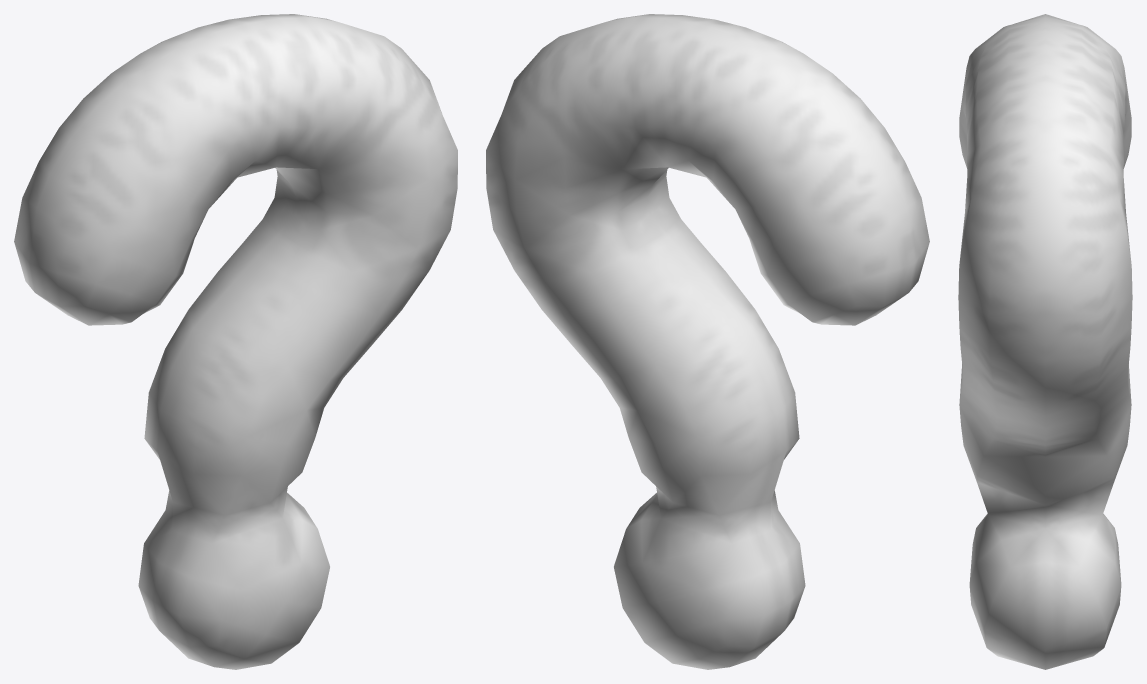
The model's file is LettersBalloon01_S2.FBX.
3 views of the same model, side by side, from view 1: azimuth 30°, elevation 25°; view 2: azimuth 150°, elevation 25°; view 3: azimuth 270°, elevation 25° (orthographic).
Visible parts, largest first — view 1: LettersBalloon01_S2; view 2: LettersBalloon01_S2; view 3: LettersBalloon01_S2.
Boxes of the visible parts, bbox=[...] form: LettersBalloon01_S2: bbox=[14, 14, 457, 669]; LettersBalloon01_S2: bbox=[486, 14, 929, 669]; LettersBalloon01_S2: bbox=[958, 14, 1132, 669].
Size of what is drawn, in the model's own units: 0.3347 by 0.4846 by 0.1231.
